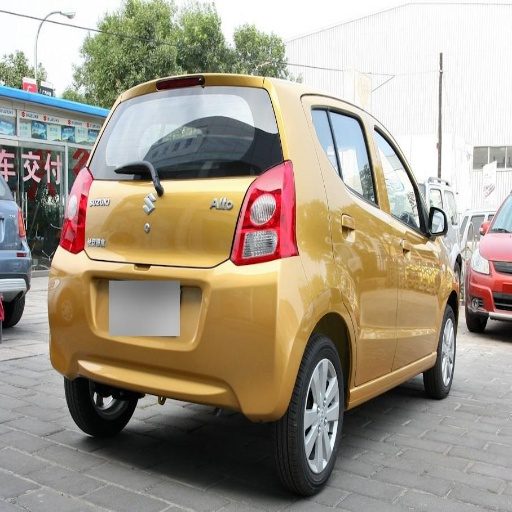back_bumper: (51, 247, 156, 390), (217, 257, 303, 347)
back_left_light: (61, 192, 87, 252)
back_right_door: (311, 104, 401, 383)
back_right_light: (233, 160, 297, 264)
trunk: (61, 164, 294, 410)
